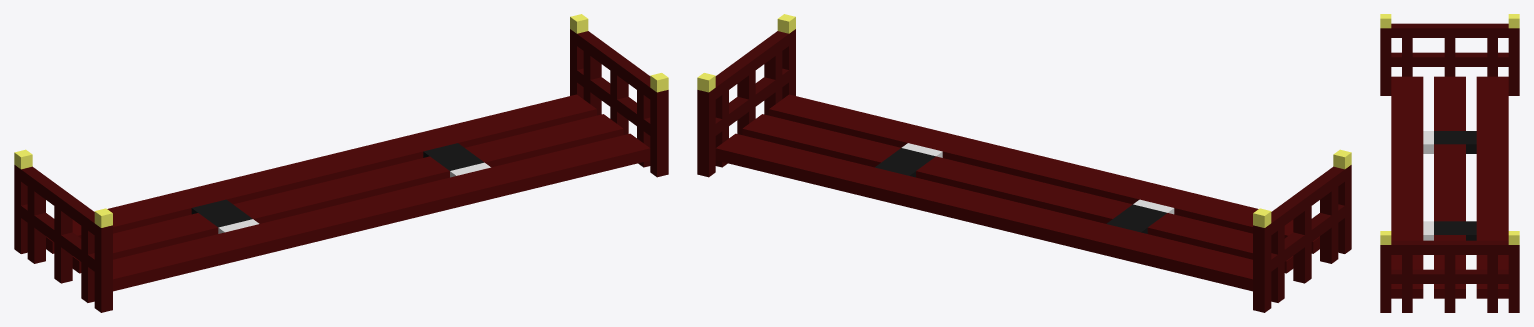
File: bridge_smart.obj
The picture shows the model from 3 angles, left to right: view 1: azimuth 30°, elevation 25°; view 2: azimuth 150°, elevation 25°; view 3: azimuth 270°, elevation 25°; orthographic projection. The views are drawn at different scales.
Size of the model in its own units: 4.9 by 0.8 by 1.3.
1 material, 1 textured.
